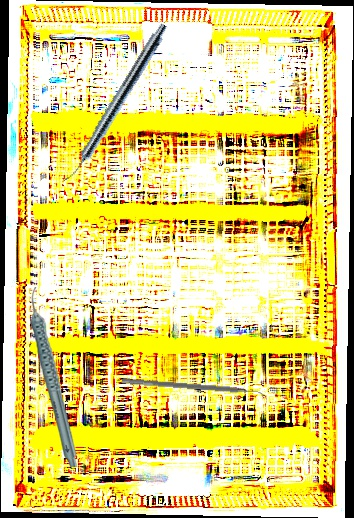Handpiece: (60, 19, 171, 188), (30, 287, 79, 467)
Spatula Surgical: (121, 377, 267, 401)
